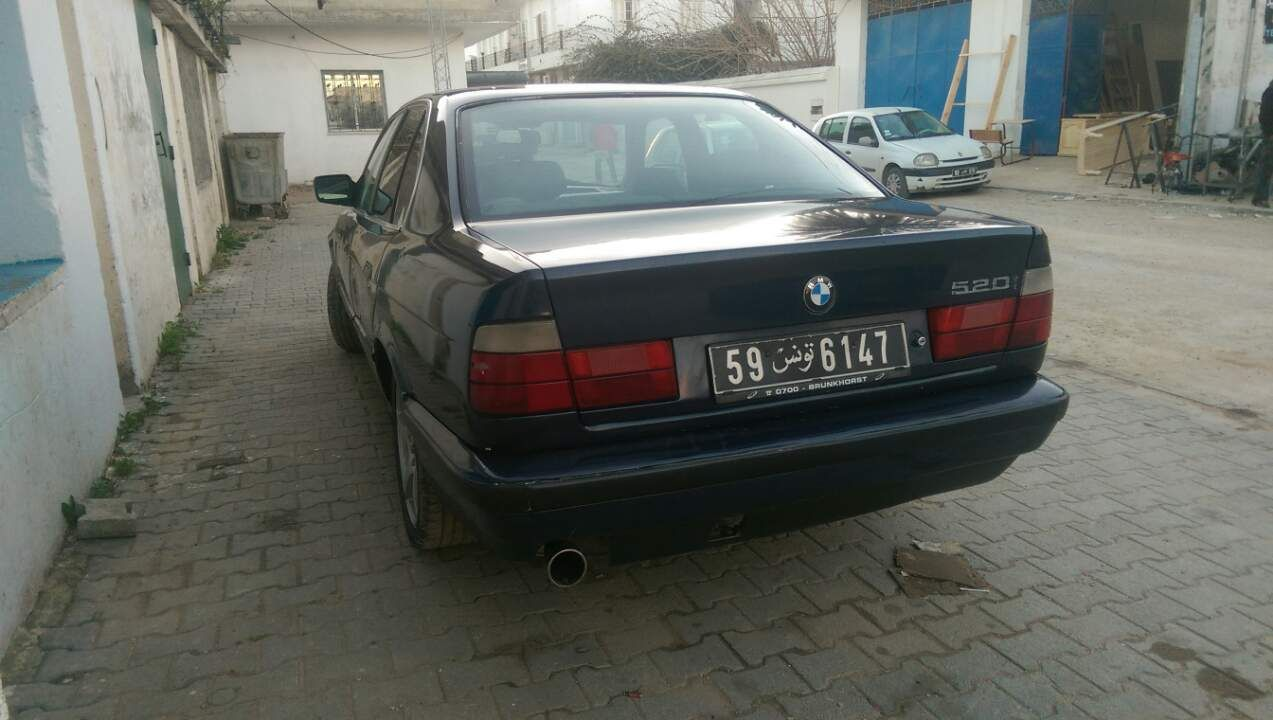LP: (702, 320, 921, 395)
